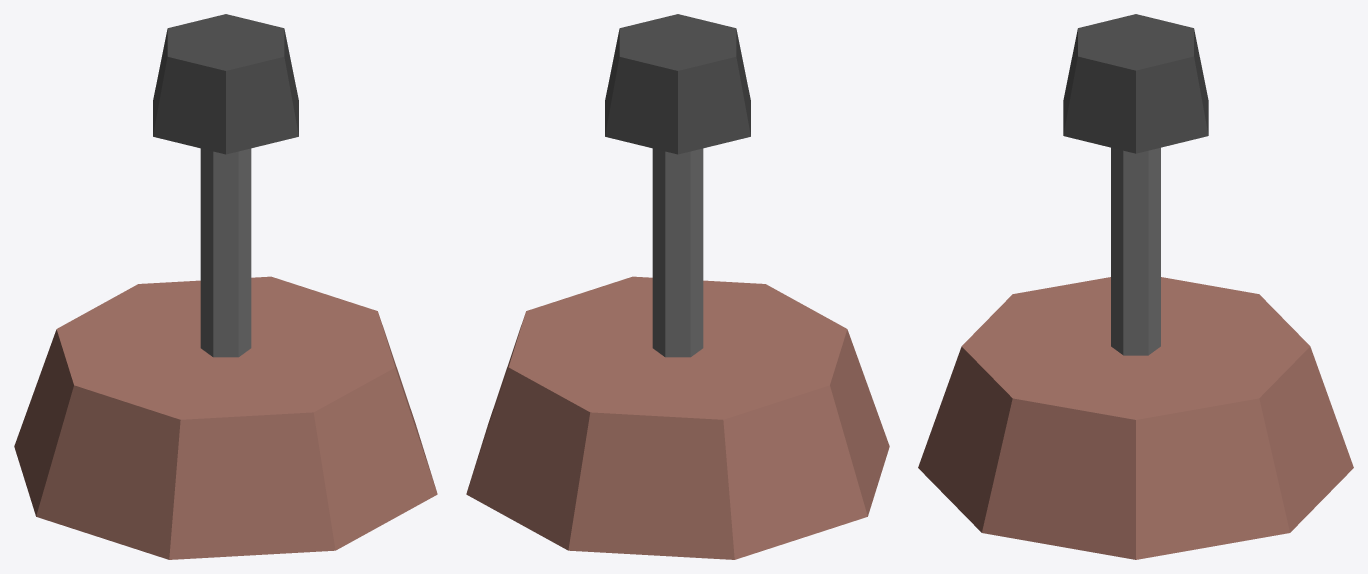
Rendered from buoy.glb.
The picture shows the model from 3 angles, left to right: view 1: azimuth 30°, elevation 25°; view 2: azimuth 150°, elevation 25°; view 3: azimuth 270°, elevation 25°; orthographic projection.
Bounding box in the file's own units: 5.2 × 5.6 × 5.2.
